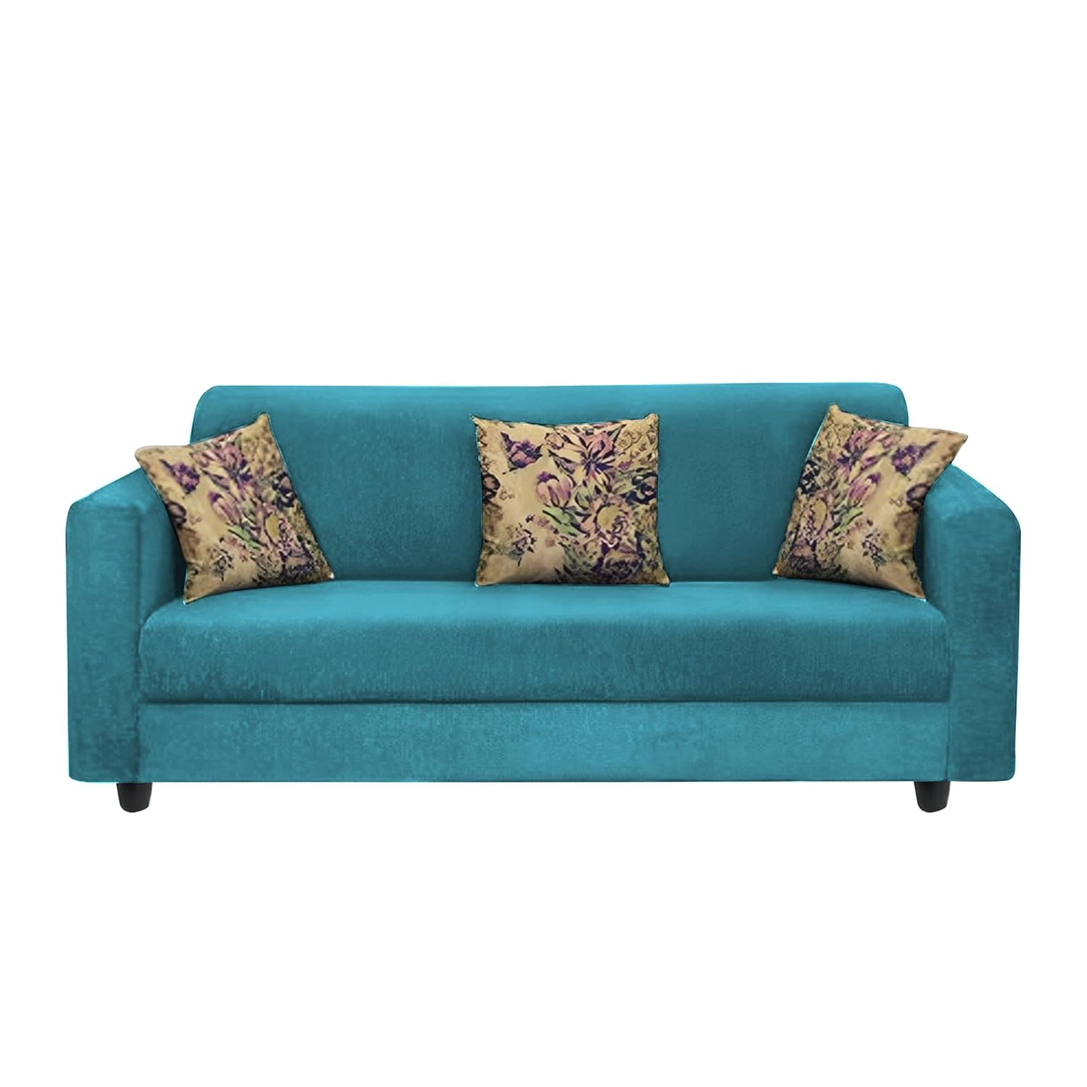3seatersofa: (68, 382, 1017, 810)
backrest: (191, 385, 907, 579)
base: (138, 701, 948, 778)
leftarmrest: (928, 467, 1015, 780)
leg: (109, 783, 151, 823), (915, 779, 949, 814)
pillow: (775, 404, 969, 595), (138, 417, 333, 598), (473, 419, 667, 593)
rightarmrest: (65, 472, 176, 778)
seat: (141, 574, 951, 698)
